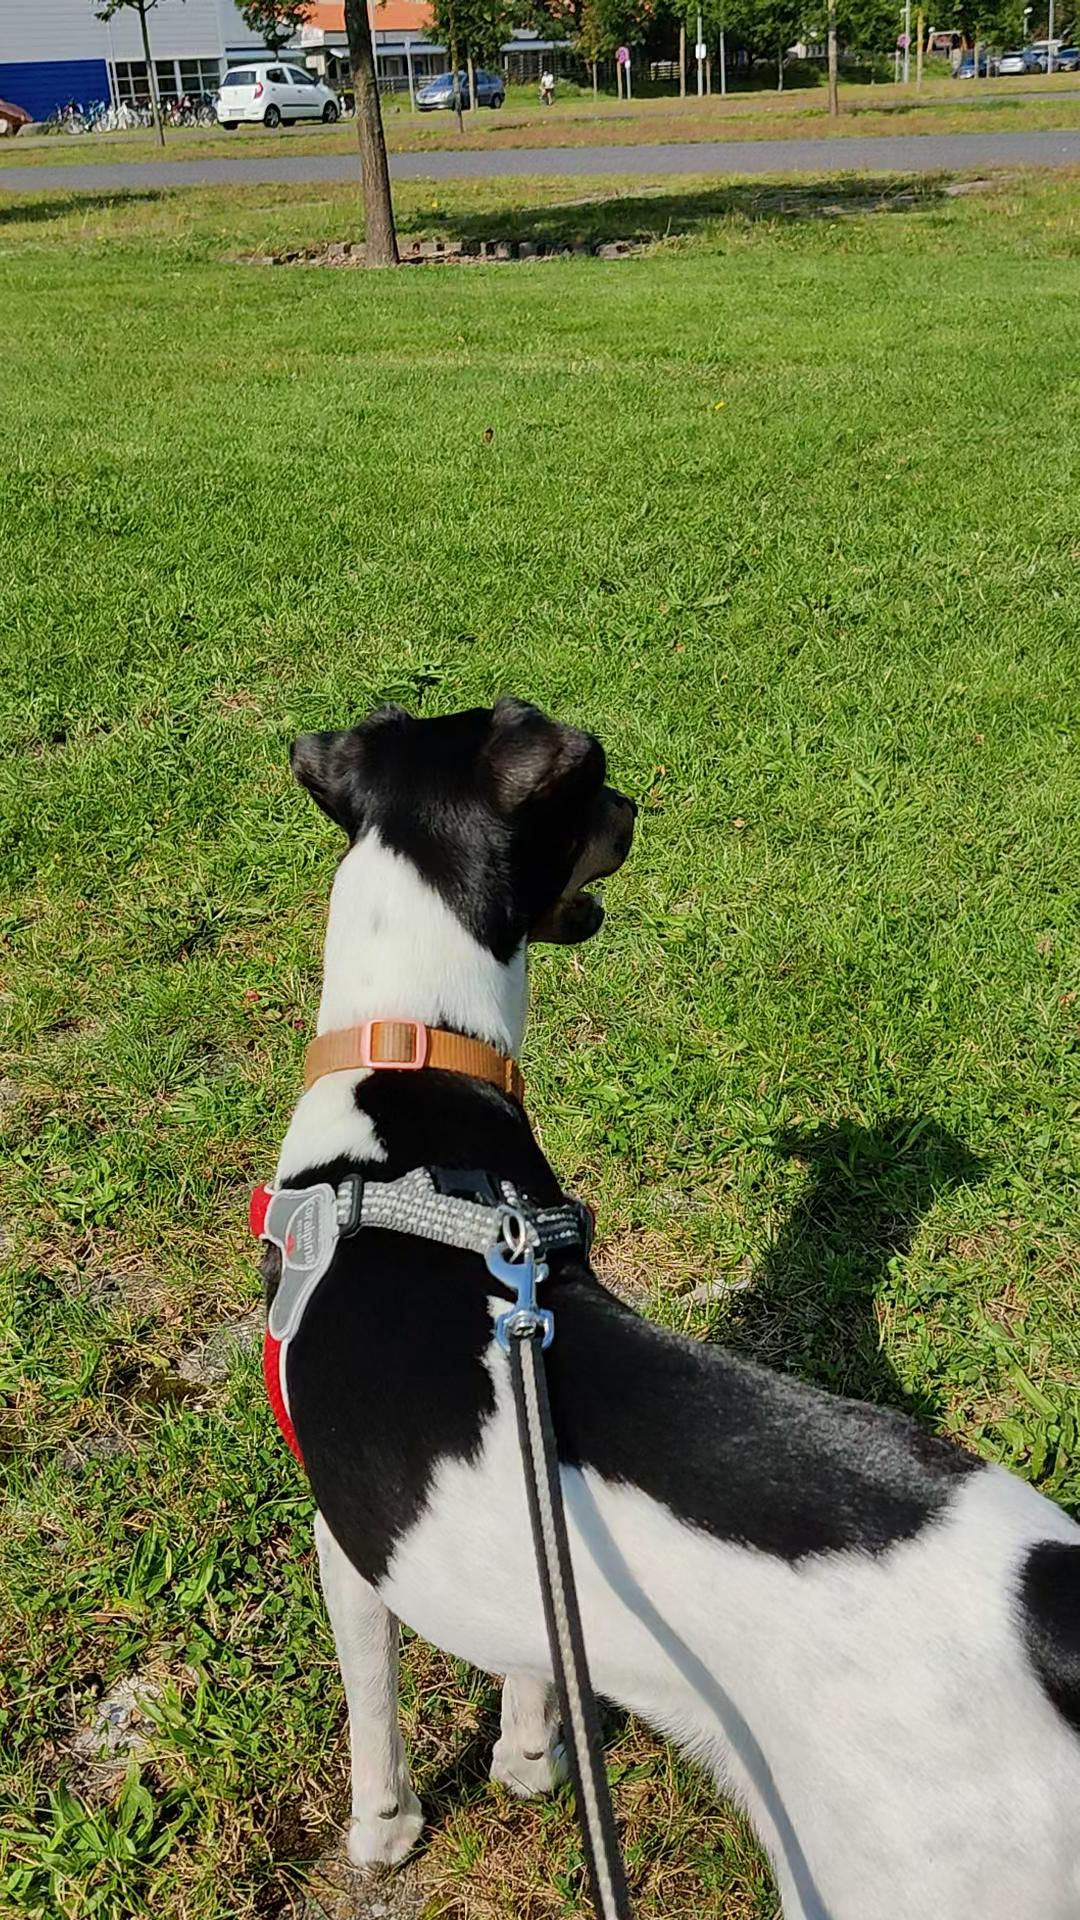Dog: (252, 682, 1079, 1919)
